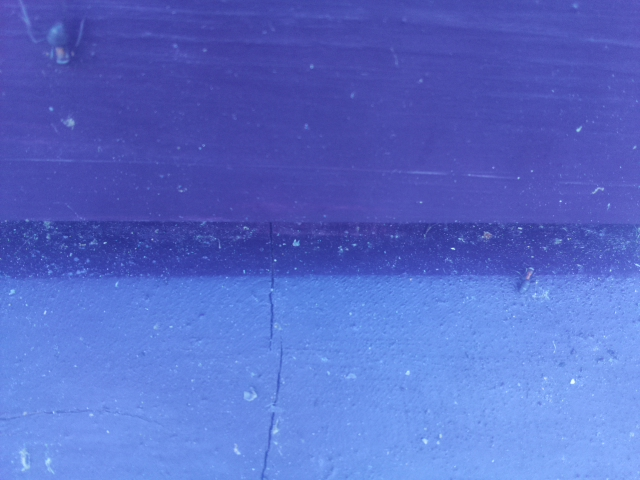ant: (44, 17, 74, 71)
